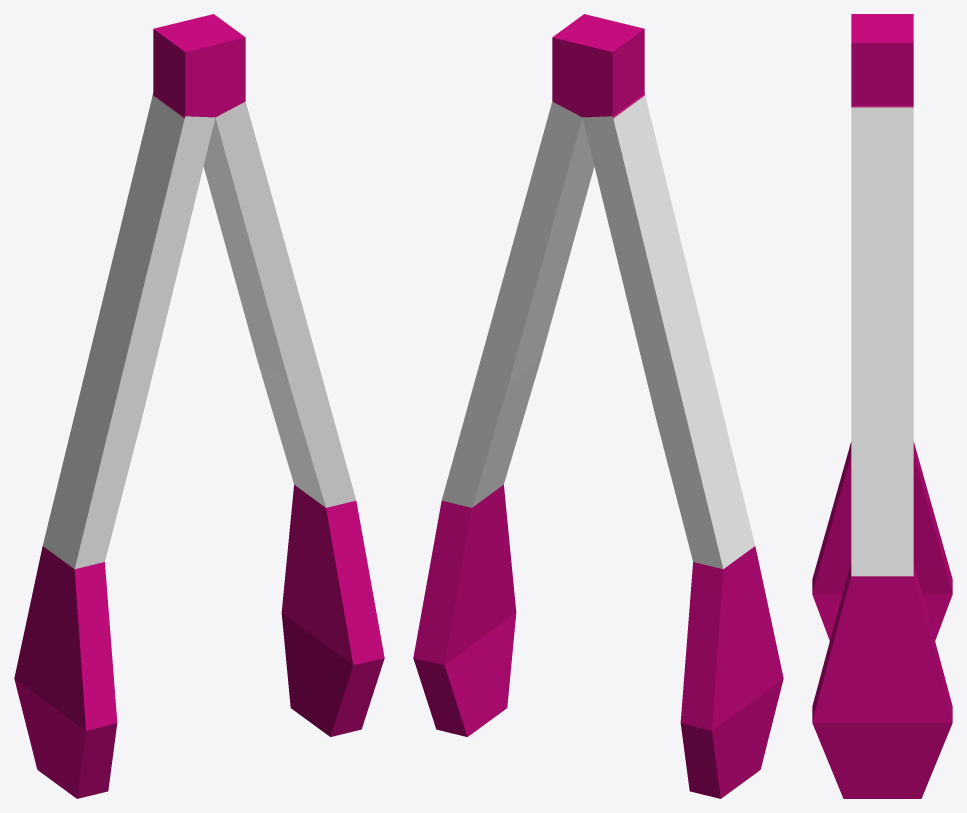
Rendered from tongs3_PLY.fbx.
The picture shows the model from 3 angles, left to right: view 1: azimuth 30°, elevation 25°; view 2: azimuth 150°, elevation 25°; view 3: azimuth 270°, elevation 25°; orthographic projection. The views are drawn at different scales.
Parts seen in each view (by area): view 1: tongs3_PLY; view 2: tongs3_PLY; view 3: tongs3_PLY.
Part boxes in pixels (box(x1,y1,x2,y2)): tongs3_PLY: box(14, 14, 384, 798); tongs3_PLY: box(413, 14, 783, 798); tongs3_PLY: box(812, 14, 952, 798).
Size of the model in its own units: 0.6567 by 1.51 by 0.2732.
